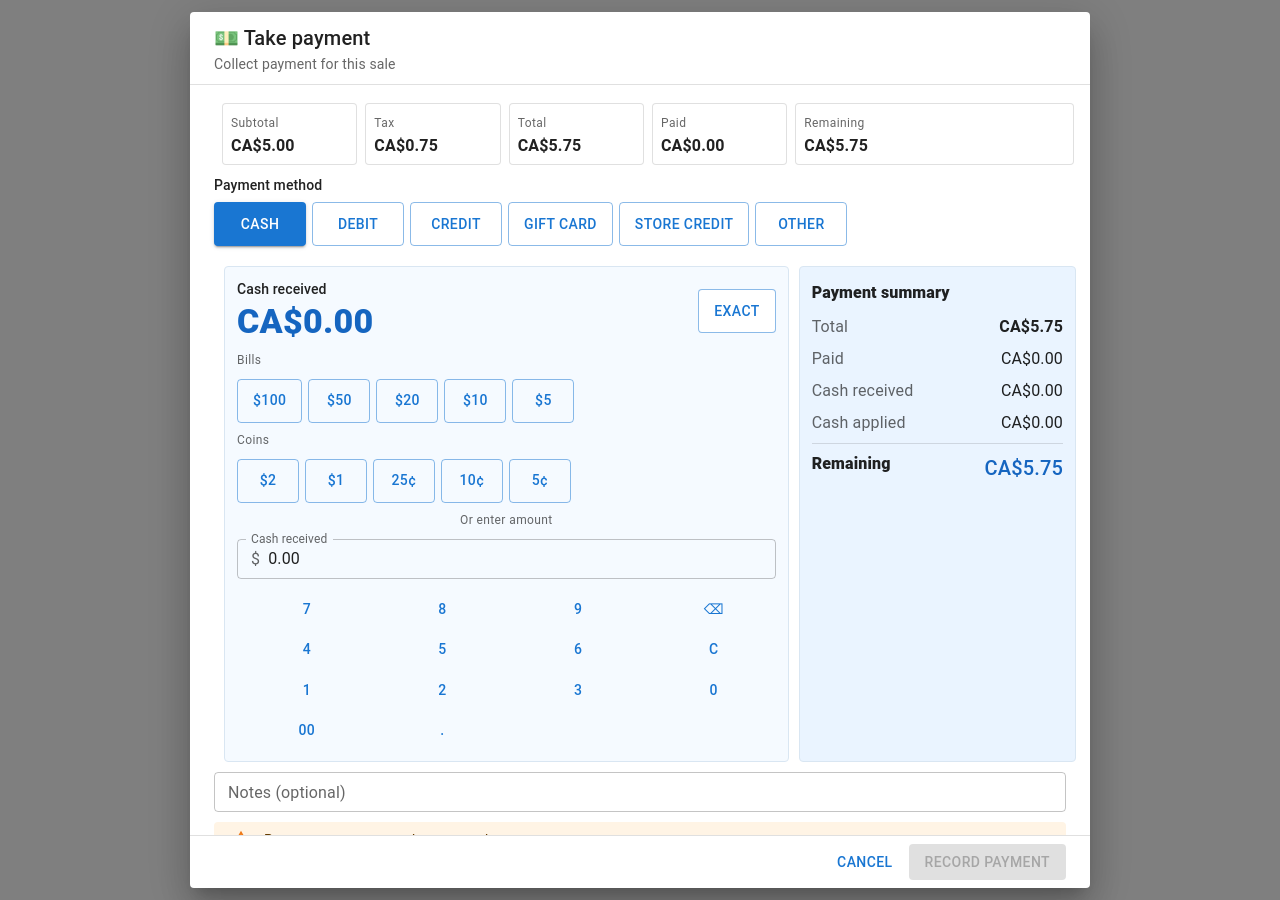
Test: POS pages › sets exact remaining only after the cashier explicitly selects Exact
Expected: the field labelled "Cash received" holds "0.00", [268,538,776,578]
Click the button "Exact" at (737, 311), box [698,289,776,333]
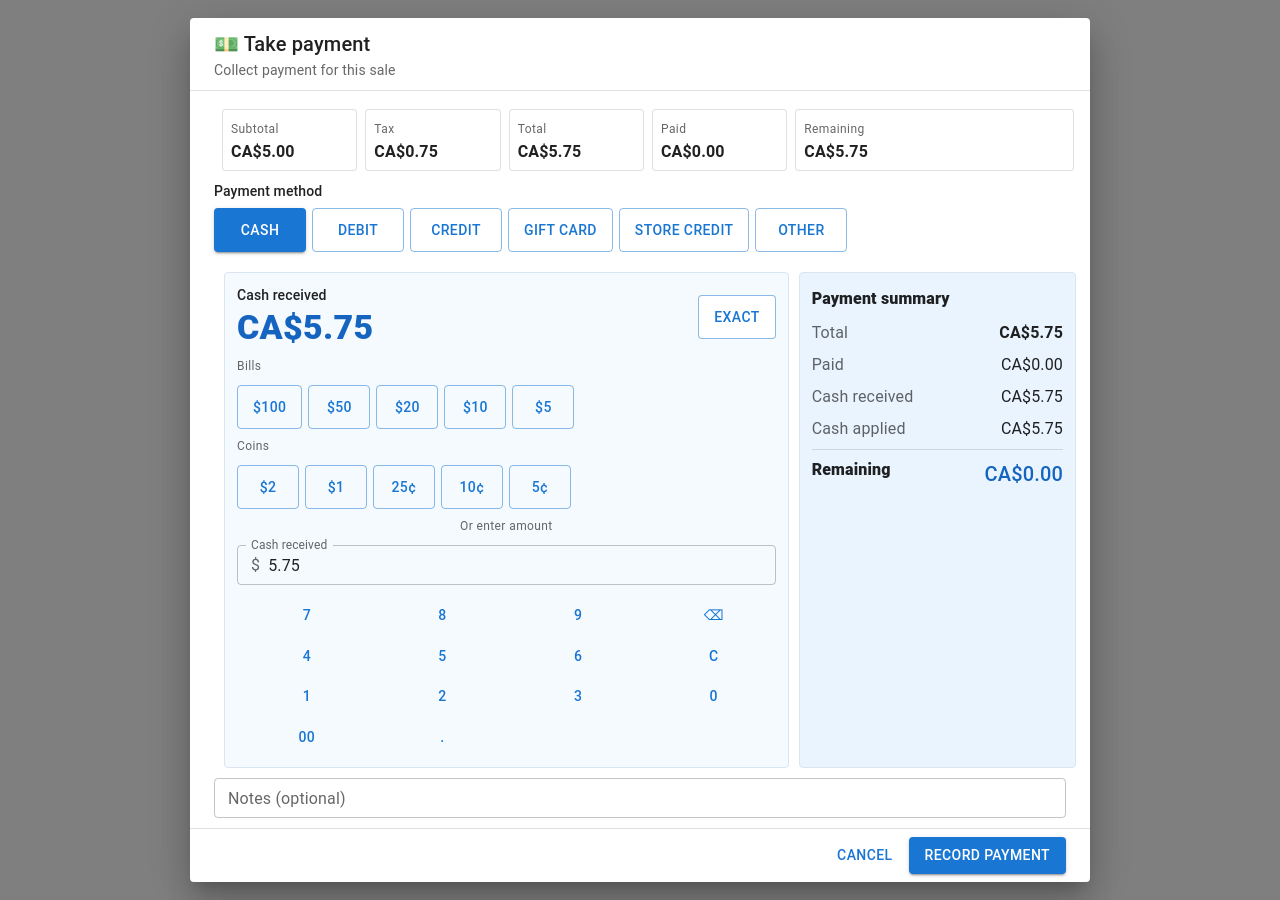
Expected: the field labelled "Cash received" holds "5.75", [268,545,776,585]
